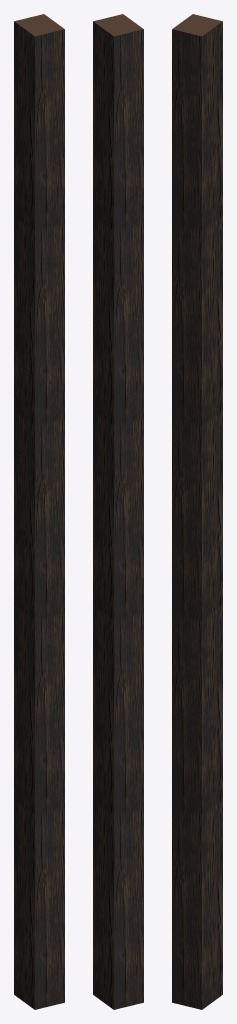
The model's file is SB_Post.fbx.
3 renders of one model, left to right at view 1: azimuth 30°, elevation 25°; view 2: azimuth 210°, elevation 25°; view 3: azimuth 330°, elevation 25°, orthographic.
Parts seen in each view (by area): view 1: SB_Beam.004; view 2: SB_Beam.004; view 3: SB_Beam.004.
Part boxes in pixels (x1,y1,x2,y2): SB_Beam.004: [14, 14, 64, 1009]; SB_Beam.004: [93, 14, 143, 1009]; SB_Beam.004: [172, 14, 222, 1009].
Bounding box in the file's own units: 63.82 × 1980 × 76.58.
